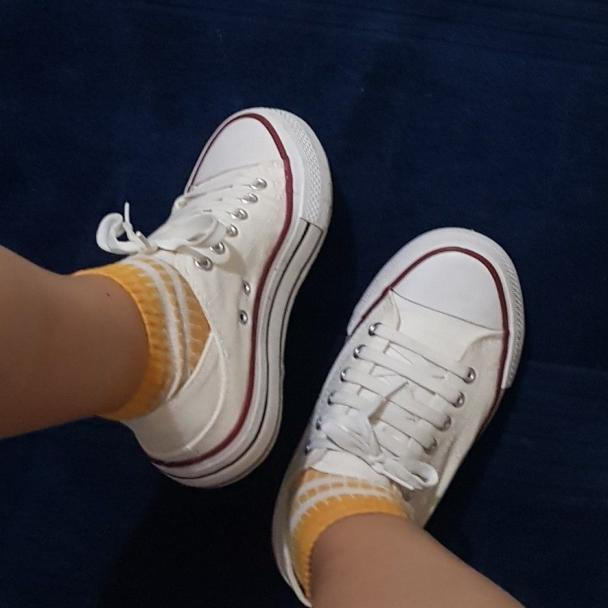Sepatu: (253, 220, 551, 605), (92, 86, 343, 506)
